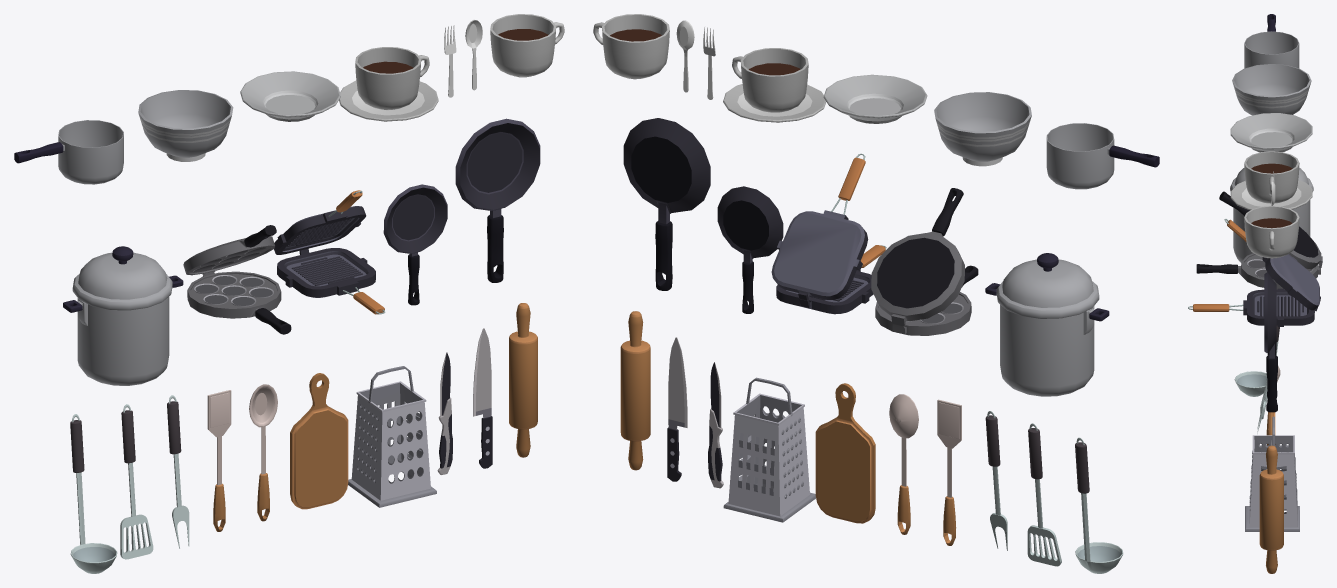
Rendered from kitchen_appliances.fbx.
The picture shows the model from 3 angles, left to right: view 1: azimuth 30°, elevation 25°; view 2: azimuth 150°, elevation 25°; view 3: azimuth 270°, elevation 25°; orthographic projection. The views are drawn at different scales.
Parts seen in each view (by area): view 1: grater, Big frying pan, pan, board, a mug1, bowl1, pot lid, pan_small, grill-barbecue bottom, bottom baking form, small frying pan, bowl2 (+11 smaller); view 2: grater, Big frying pan, pan, grill-barbecue top, baking form top, board, a mug1, bowl1, pot lid, pan_small, small frying pan, a mug2 (+11 smaller); view 3: a mug1, bowl1, grater, bowl2, a mug2, rolling pin, grill-barbecue bottom, grill-barbecue top, pan_small, Big frying pan, bottom baking form, baking form top (+3 smaller).
Boxes of the visible parts, <box> form: grater: <box>348,366,436,507</box>; Big frying pan: <box>455,118,540,282</box>; pan: <box>63,275,183,385</box>; board: <box>290,373,348,509</box>; a mug1: <box>339,47,438,121</box>; bowl1: <box>138,90,233,161</box>; pot lid: <box>72,246,172,310</box>; pan_small: <box>14,120,123,184</box>; grill-barbecue bottom: <box>277,248,385,314</box>; bottom baking form: <box>187,271,291,334</box>; small frying pan: <box>383,184,447,305</box>; bowl2: <box>240,71,340,121</box>; grater: <box>723,377,815,522</box>; Big frying pan: <box>623,118,710,290</box>; pan: <box>985,283,1109,396</box>; grill-barbecue top: <box>771,153,868,300</box>; baking form top: <box>871,188,964,326</box>; board: <box>815,383,875,523</box>; a mug1: <box>723,48,826,122</box>; bowl1: <box>934,92,1031,166</box>; pot lid: <box>996,253,1099,318</box>; pan_small: <box>1046,123,1159,189</box>; small frying pan: <box>717,186,783,313</box>; a mug2: <box>593,14,669,79</box>; a mug1: <box>1230,151,1312,210</box>; bowl1: <box>1232,64,1311,115</box>; grater: <box>1245,416,1299,531</box>; bowl2: <box>1230,113,1312,152</box>; a mug2: <box>1244,206,1299,258</box>; rolling pin: <box>1259,445,1283,573</box>; grill-barbecue bottom: <box>1188,288,1318,326</box>; grill-barbecue top: <box>1224,219,1320,310</box>; pan_small: <box>1244,14,1299,68</box>; Big frying pan: <box>1264,272,1277,412</box>; bottom baking form: <box>1196,253,1320,289</box>; baking form top: <box>1219,191,1322,269</box>.
Bounding box in the file's own units: 506 × 398 × 130.
